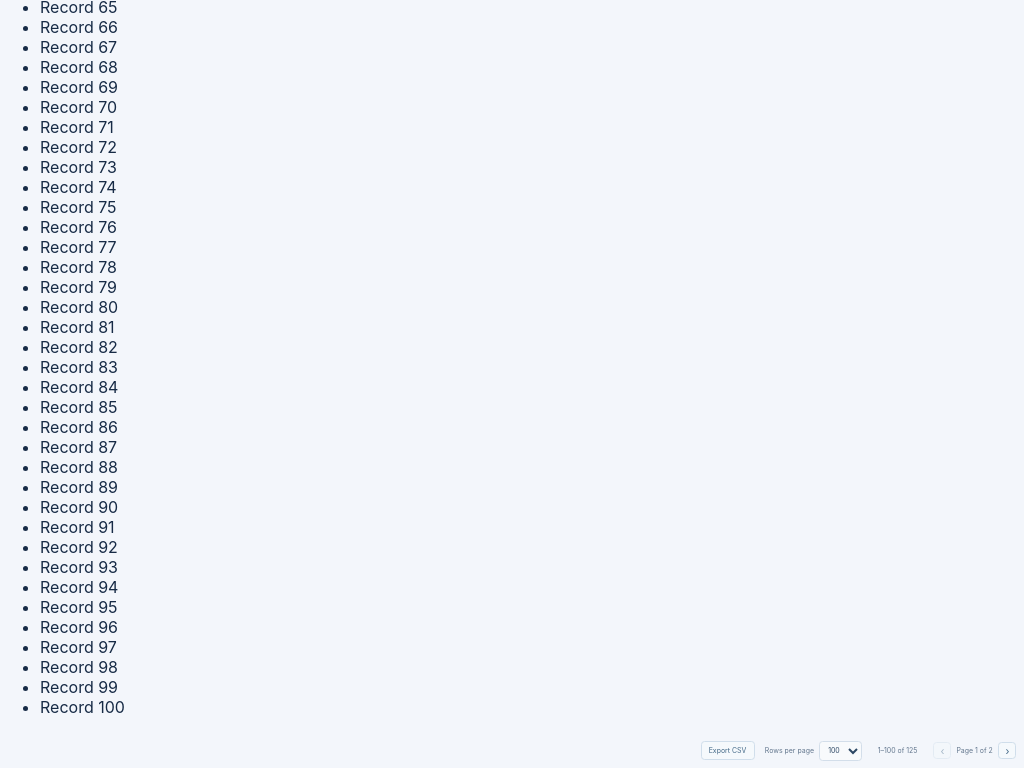
Test: table pagination defaults to 100 rows and supports page size changes
The image size is (1024, 768).
(page scrolled)
Select "10" in the dropdown labelled "Rows per page" at x=840, y=751, box [818, 741, 862, 761]
(page scrolled)
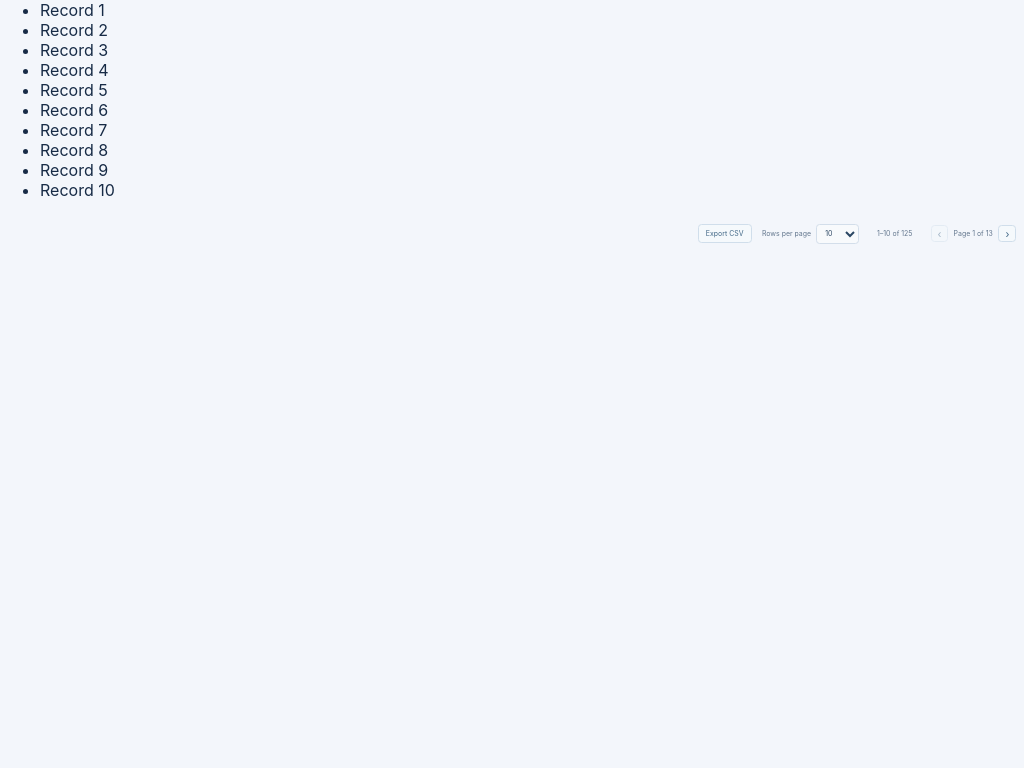
expect the number of list items is 10: met
Click the button named "next page" at x=1007, y=234, box [998, 225, 1016, 242]
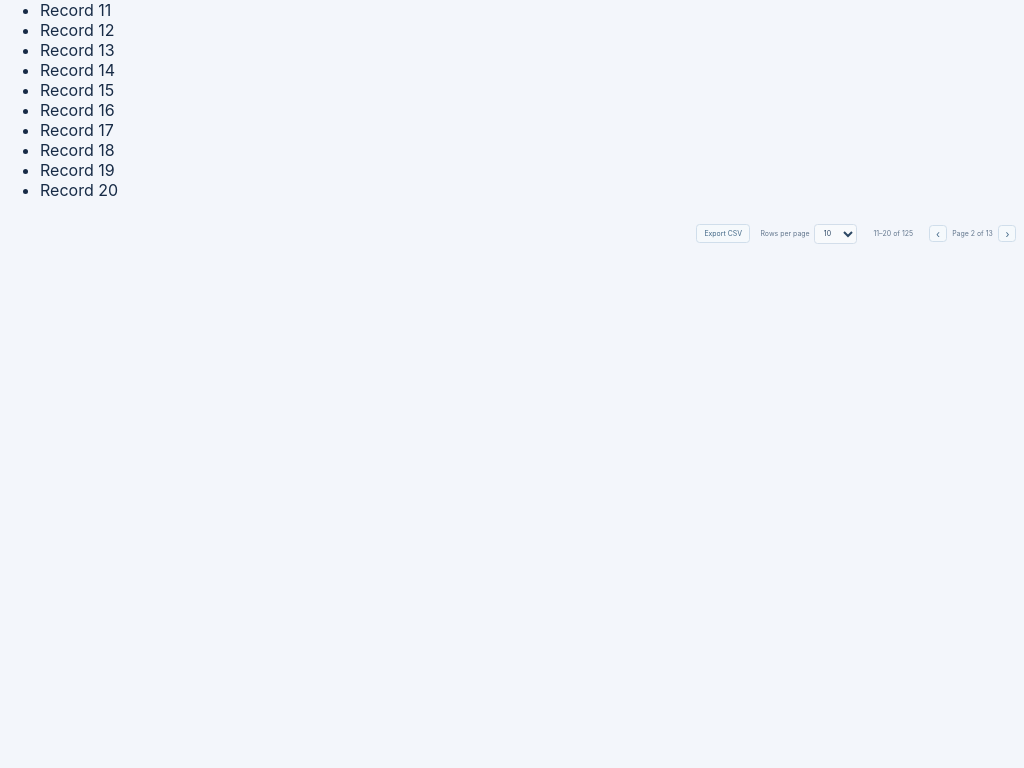
expect the text "Page 2 of 13" is shown: met, box [952, 229, 993, 238]
expect the list item "Record 11" is shown: met, box [40, 0, 111, 20]
